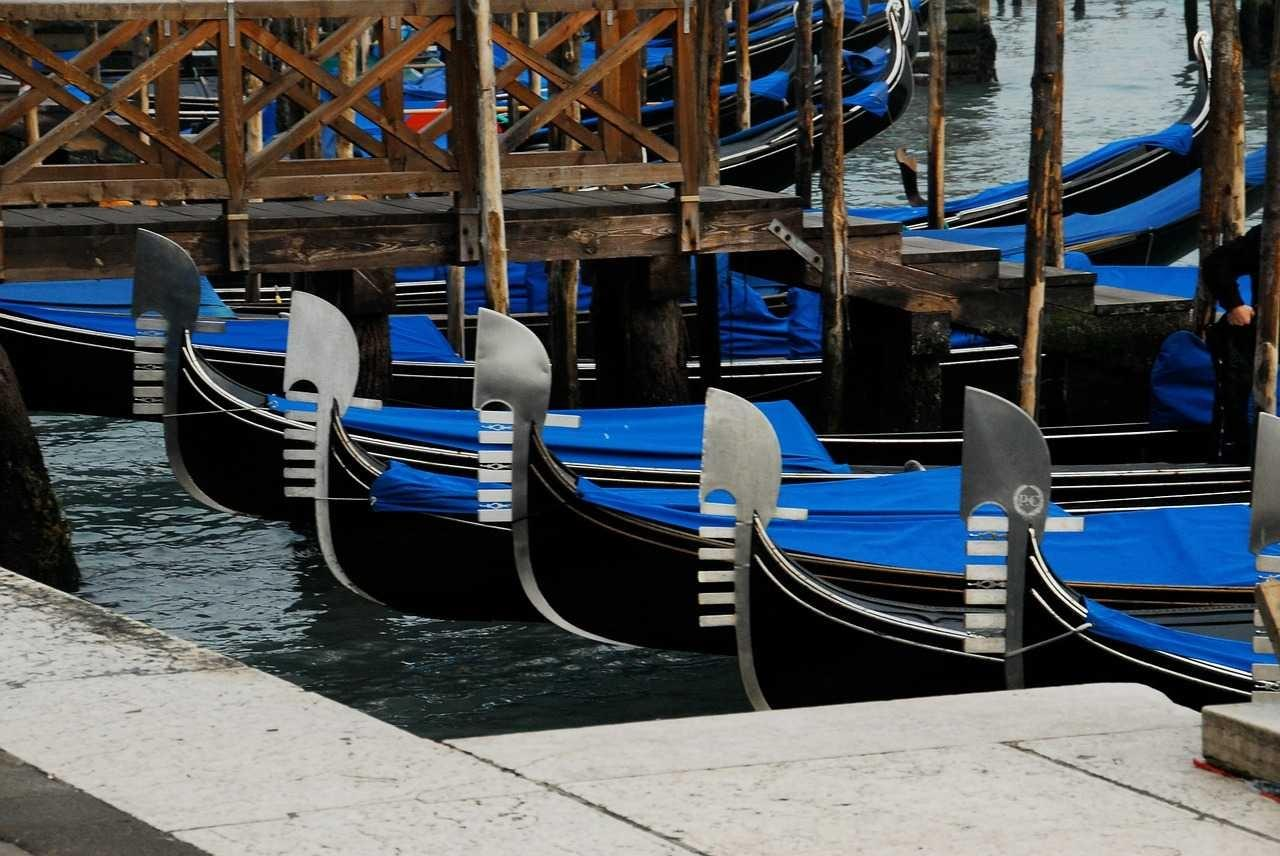kayak: (131, 264, 1262, 707), (803, 38, 1212, 244), (878, 141, 1267, 276), (0, 267, 282, 409), (714, 3, 917, 178), (1247, 412, 1279, 687)
